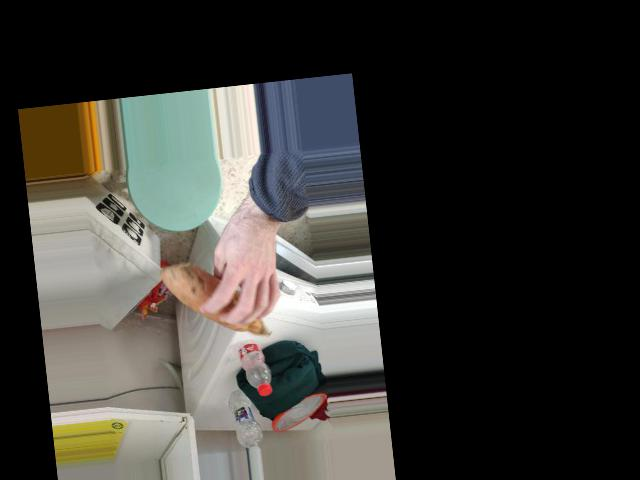sweet_potato: (167, 257, 278, 342)
